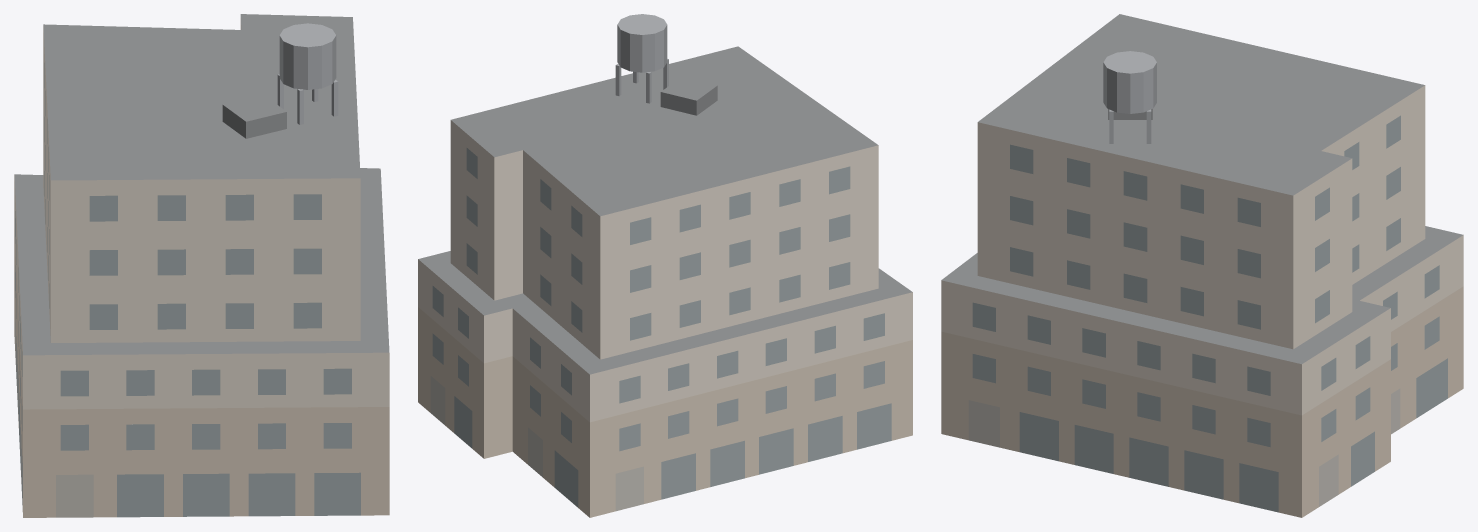
File: doitt-147902__lod_1.glb
The picture shows the model from 3 angles, left to right: view 1: azimuth 30°, elevation 25°; view 2: azimuth 150°, elevation 25°; view 3: azimuth 270°, elevation 25°; orthographic projection. The views are drawn at different scales.
Size of the model in its own units: 33.73 by 28.22 by 35.16.
